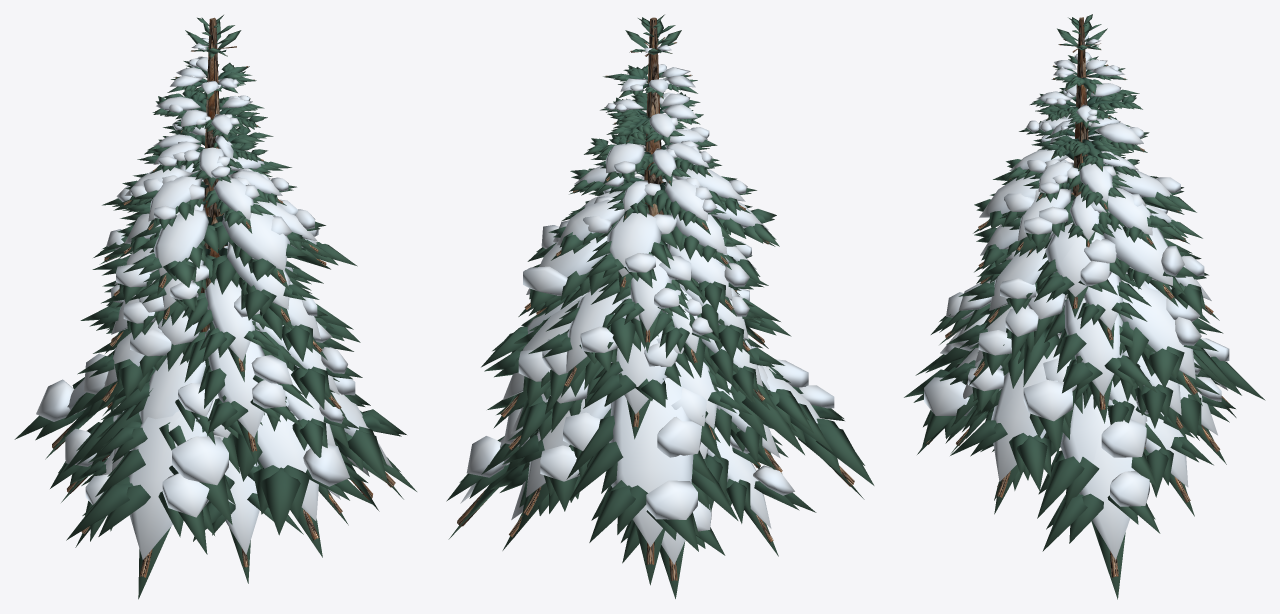
Rendered from tree17.glb.
3 renders of one model, left to right at view 1: azimuth 30°, elevation 25°; view 2: azimuth 150°, elevation 25°; view 3: azimuth 270°, elevation 25°, orthographic. The views are drawn at different scales.
Parts seen in each view (by area): view 1: Alpine17_1 (×2), Alpine17_2 (×2), Alpine17_0 (×2); view 2: Alpine17_1 (×2), Alpine17_2 (×2), Alpine17_0; view 3: Alpine17_2 (×2), Alpine17_1 (×2), Alpine17_0.
Part boxes in pixels (left/top/right/bottom): Alpine17_1 (×2): left=14, top=15, right=416, bottom=599; Alpine17_2 (×2): left=36, top=38, right=392, bottom=559; Alpine17_0 (×2): left=52, top=17, right=395, bottom=577; Alpine17_1 (×2): left=446, top=14, right=874, bottom=598; Alpine17_2 (×2): left=460, top=45, right=834, bottom=564; Alpine17_0: left=457, top=17, right=854, bottom=580; Alpine17_2 (×2): left=924, top=34, right=1229, bottom=559; Alpine17_1 (×2): left=904, top=14, right=1265, bottom=599; Alpine17_0: left=926, top=17, right=1229, bottom=576.
Size of the model in its own units: 8.59 by 12.26 by 8.06.
6 materials, 2 textured.
